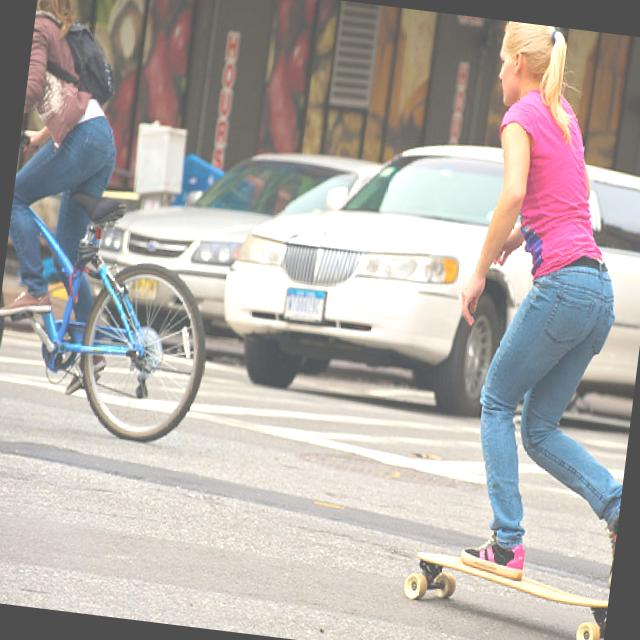Vehicle: (211, 114, 640, 437), (92, 129, 382, 331)
